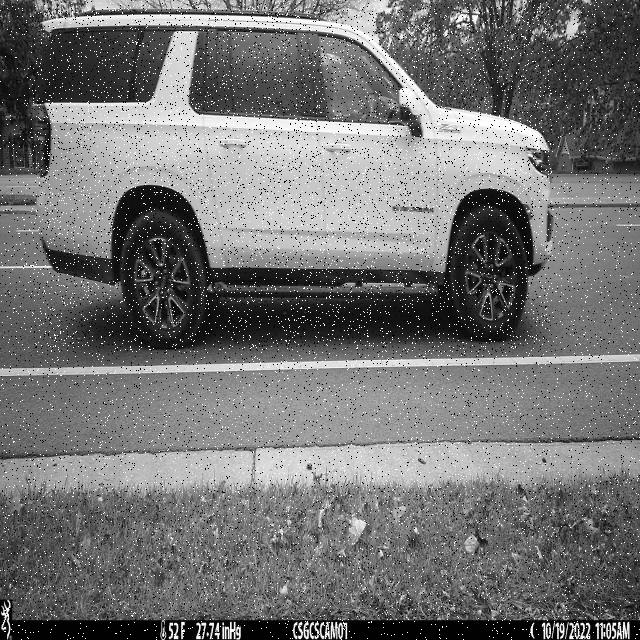SUV: (31, 7, 553, 352)
